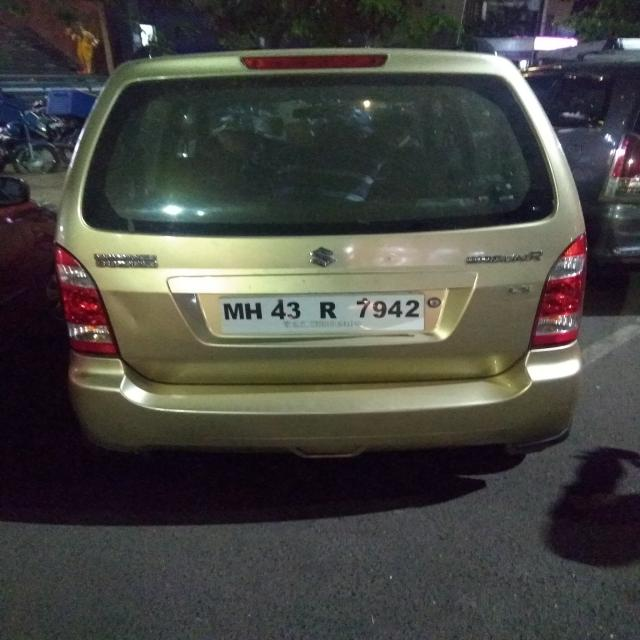Number-Plate: (225, 287, 428, 336)
